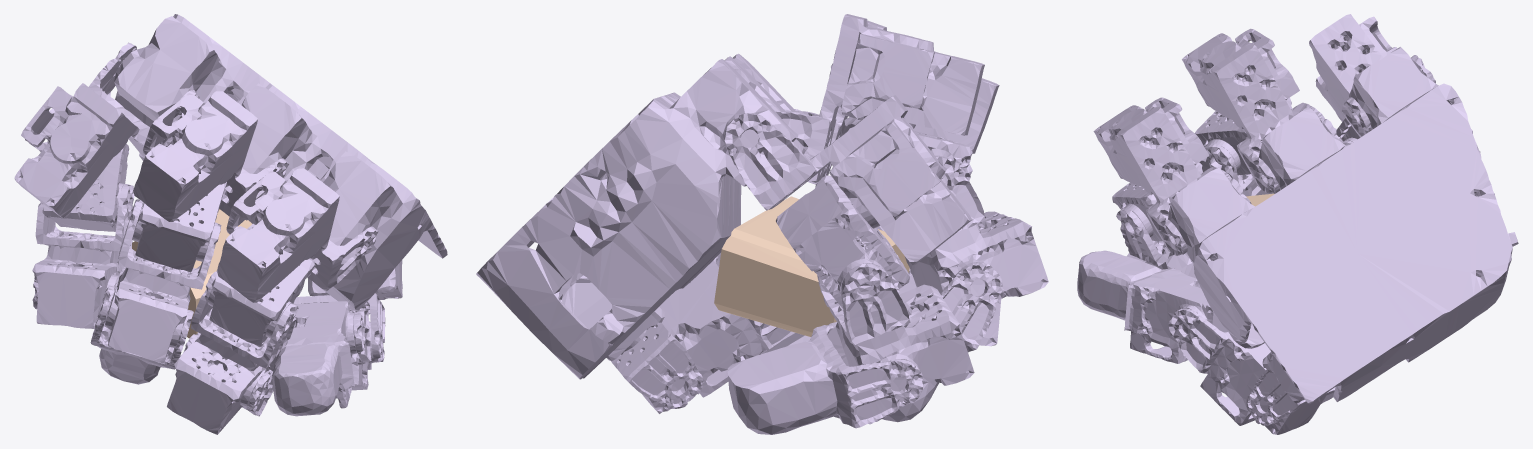
3 renders of one model, left to right at view 1: azimuth 30°, elevation 25°; view 2: azimuth 150°, elevation 25°; view 3: azimuth 270°, elevation 25°, orthographic. The views are drawn at different scales.
Parts seen in each view (by area): view 1: LEAP_hand, world; view 2: LEAP_hand, world; view 3: LEAP_hand.
Part boxes in pixels (<box>): LEAP_hand: <box>14,14,447,434</box>; world: <box>132,209,251,338</box>; LEAP_hand: <box>476,14,1048,434</box>; world: <box>714,196,909,336</box>; LEAP_hand: <box>1077,14,1518,434</box>.
Bounding box in the file's own units: 0.1818 × 0.1468 × 0.1778.
